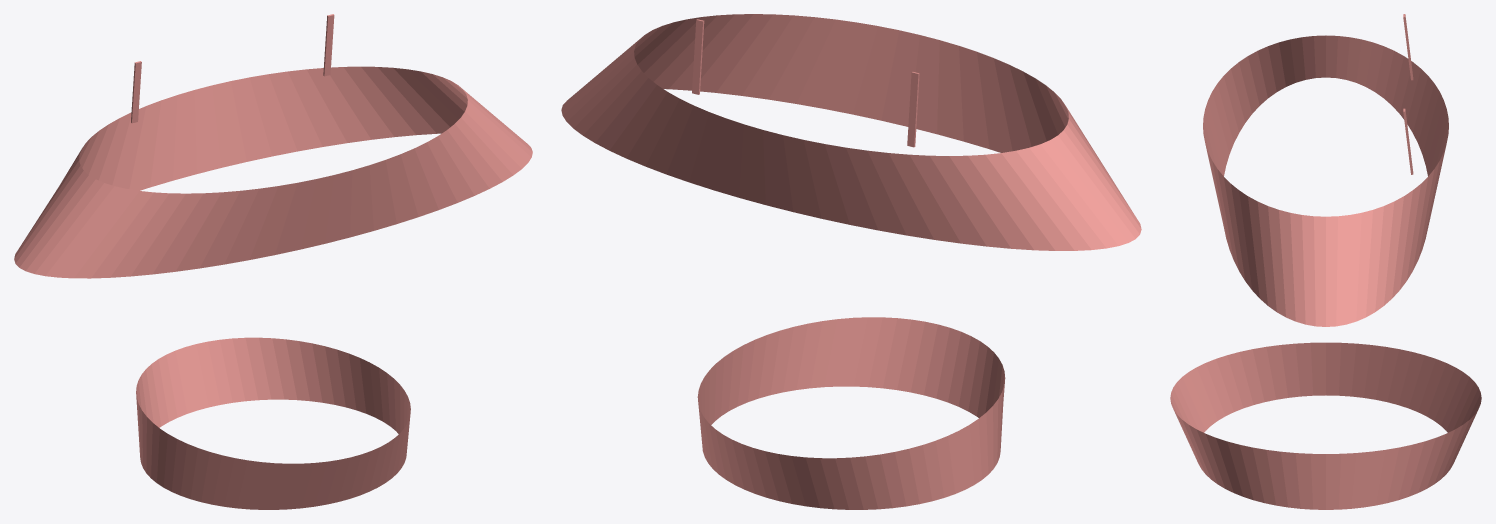
Rendered from sav4-bikini-coral.glb.
3 views of the same model, side by side, from view 1: azimuth 30°, elevation 25°; view 2: azimuth 150°, elevation 25°; view 3: azimuth 270°, elevation 25° (orthographic). The views are drawn at different scales.
Visible parts, largest first — view 1: Bikini fitted top, Bikini fitted bottom; view 2: Bikini fitted top, Bikini fitted bottom, Bikini short shoulder strap, Bikini short shoulder strap.001; view 3: Bikini fitted top, Bikini fitted bottom.
Part boxes in pixels (x1,y1,x2,y2): Bikini fitted top: (14,66,532,278); Bikini fitted bottom: (136,337,410,509); Bikini fitted top: (561,14,1141,250); Bikini fitted bottom: (697,317,1005,509); Bikini short shoulder strap: (907,72,919,147); Bikini short shoulder strap.001: (692,19,704,94); Bikini fitted top: (1203,35,1448,326); Bikini fitted bottom: (1170,342,1481,509).
Size of the model in its own units: 0.8238 by 0.6004 by 0.4344.
